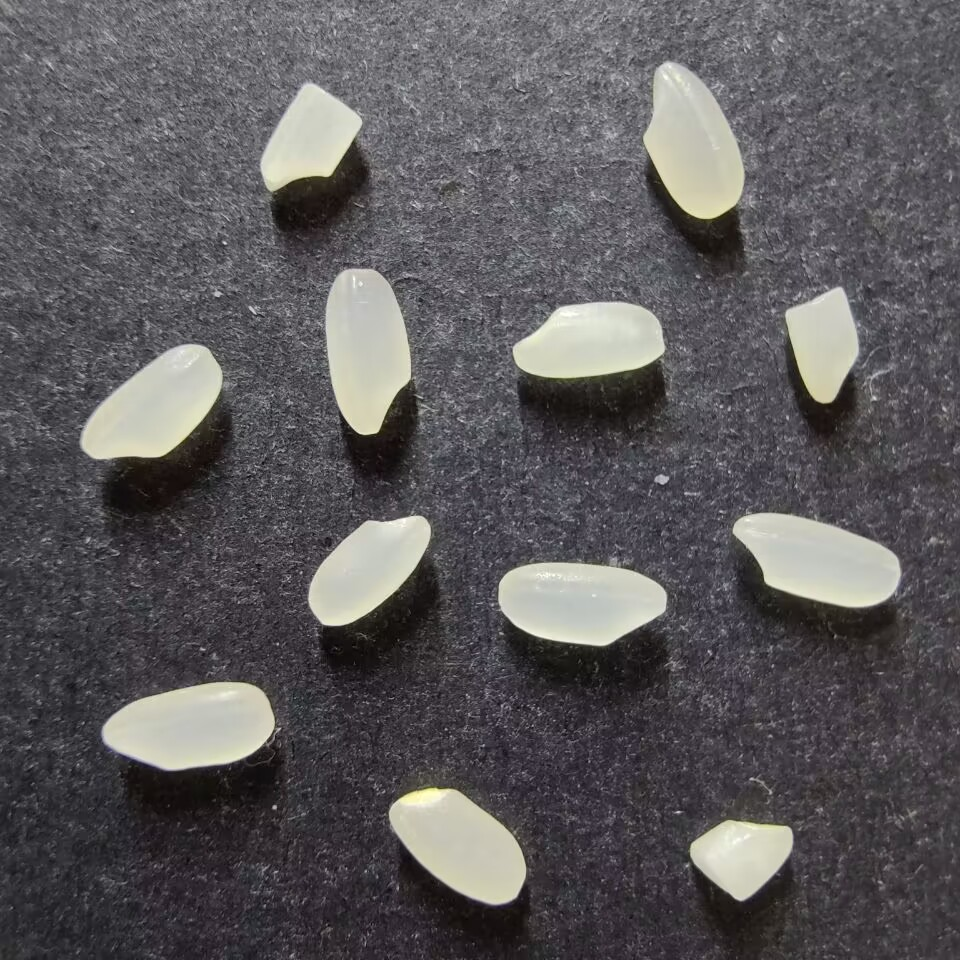broken: (259, 81, 363, 193), (784, 287, 860, 404), (687, 819, 793, 901)
rice: (79, 343, 223, 460), (388, 787, 526, 906), (641, 61, 744, 219), (731, 512, 901, 607), (100, 681, 276, 772), (323, 267, 412, 436), (497, 561, 668, 646), (307, 514, 431, 627), (512, 301, 666, 378)
